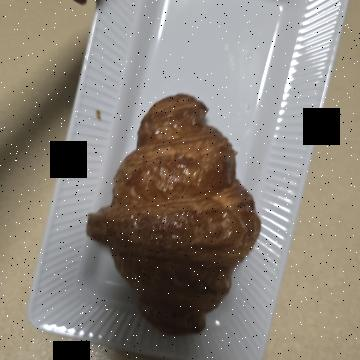croissant: (81, 82, 350, 292)
